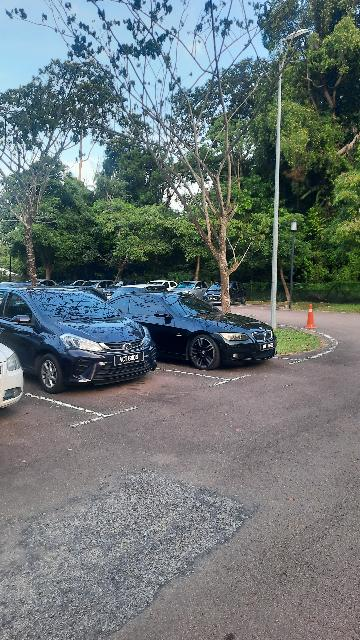License_Plate: (113, 352, 150, 366)
car: (2, 284, 169, 392), (108, 288, 281, 370)
